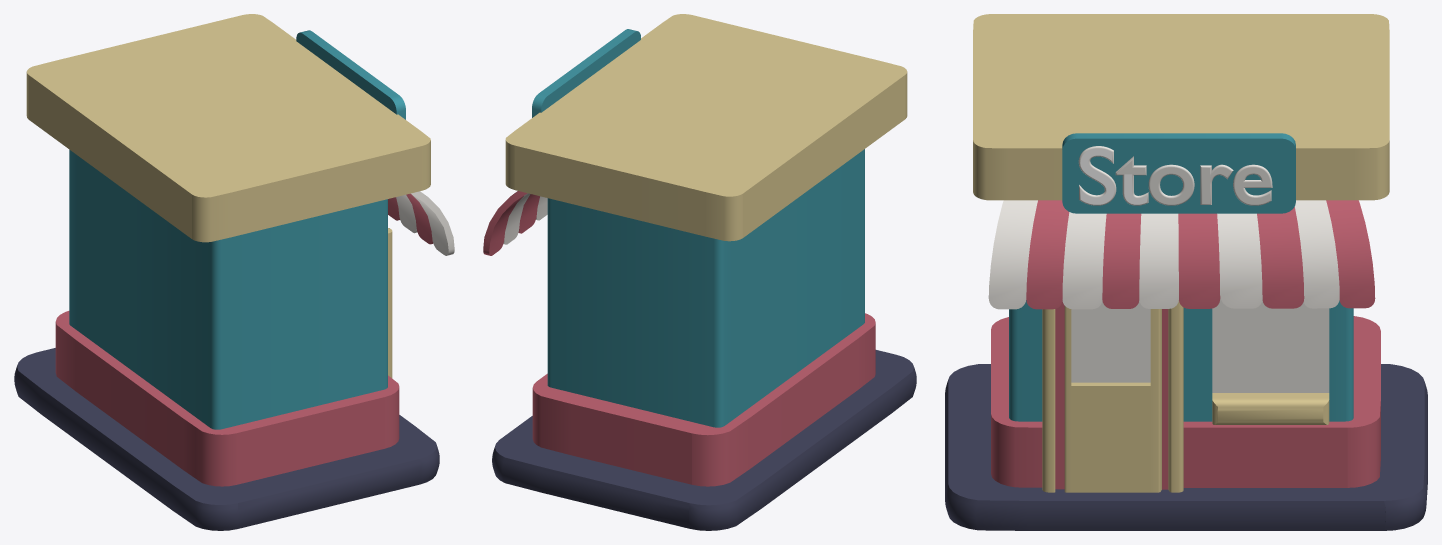
The model's file is model1modify2.fbx.
3 views of the same model, side by side, from view 1: azimuth 30°, elevation 25°; view 2: azimuth 150°, elevation 25°; view 3: azimuth 270°, elevation 25° (orthographic). The views are drawn at different scales.
Parts seen in each view (by area): view 1: Cube; view 2: Cube; view 3: Cube.
Boxes of the visible parts, box(x1,y1,x2,y2) form: Cube: box(14, 14, 454, 530); Cube: box(483, 14, 916, 530); Cube: box(945, 14, 1427, 530).
Bounding box in the file's own units: 307 × 374 × 413.
